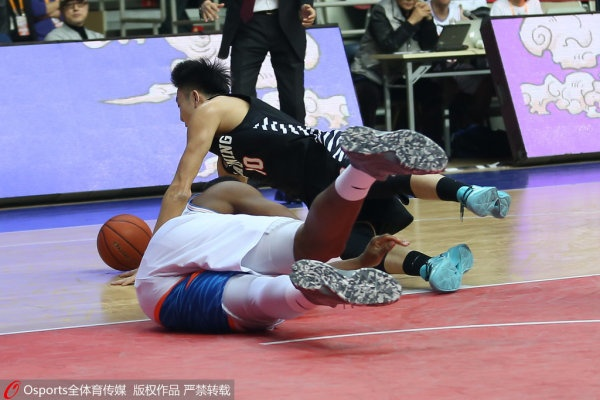falling: (152, 48, 507, 311)
